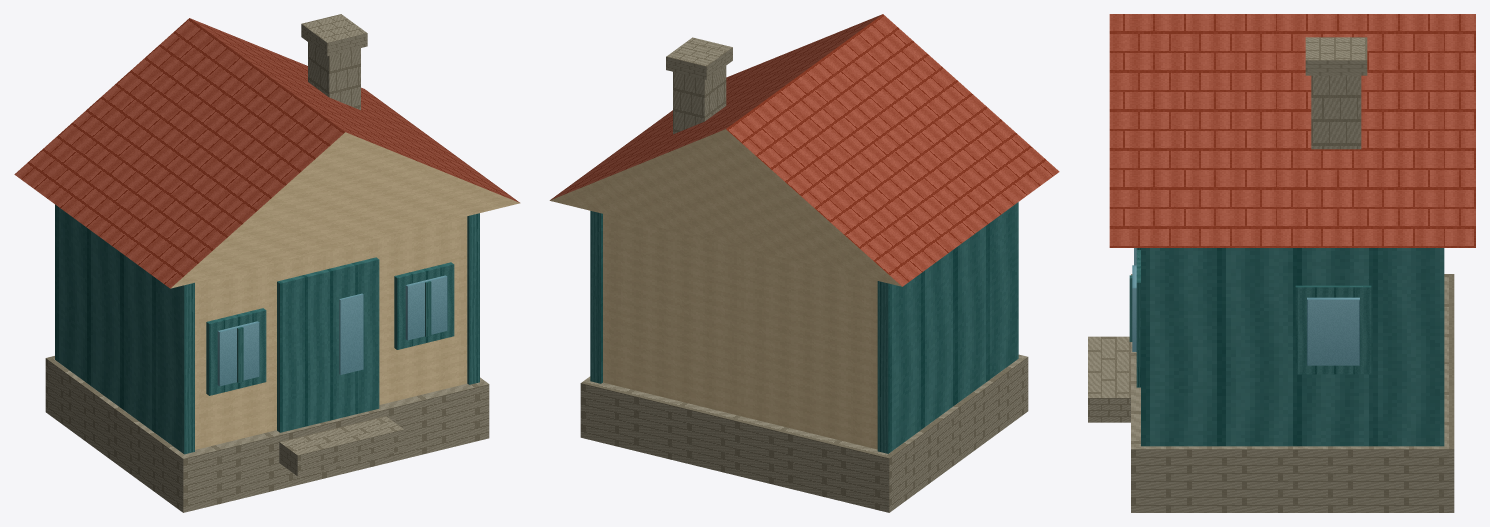
The model's file is house.glb.
The picture shows the model from 3 angles, left to right: view 1: azimuth 30°, elevation 25°; view 2: azimuth 150°, elevation 25°; view 3: azimuth 270°, elevation 25°; orthographic projection. The views are drawn at different scales.
Visible parts, largest first — view 1: Plaster and stone house; view 2: Plaster and stone house; view 3: Plaster and stone house.
Boxes of the visible parts, left/top/right/bottom form: Plaster and stone house: left=14, top=14, right=520, bottom=512; Plaster and stone house: left=549, top=14, right=1059, bottom=512; Plaster and stone house: left=1088, top=14, right=1475, bottom=512.
Bounding box in the file's own units: 3.32 × 3.28 × 2.71.
Materials: 5 (5 with a texture image).
